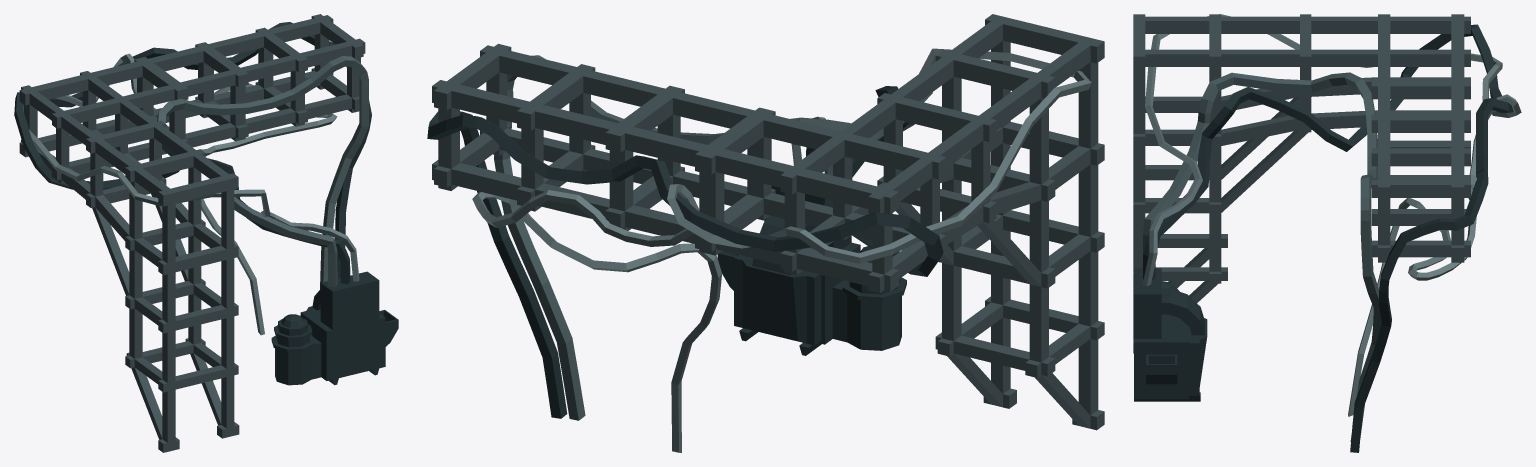
The model's file is SM_Misc_02.fbx.
3 views of the same model, side by side, from view 1: azimuth 30°, elevation 25°; view 2: azimuth 150°, elevation 25°; view 3: azimuth 270°, elevation 25° (orthographic). The views are drawn at different scales.
Parts seen in each view (by area): view 1: SM_Misc_02; view 2: SM_Misc_02; view 3: SM_Misc_02.
Boxes of the visible parts, x1,y1,x2,y2 form: SM_Misc_02: [14, 14, 398, 452]; SM_Misc_02: [427, 14, 1104, 452]; SM_Misc_02: [1133, 14, 1521, 452].
Bounding box in the file's own units: 345 × 258 × 306.
1 material, 1 textured.
